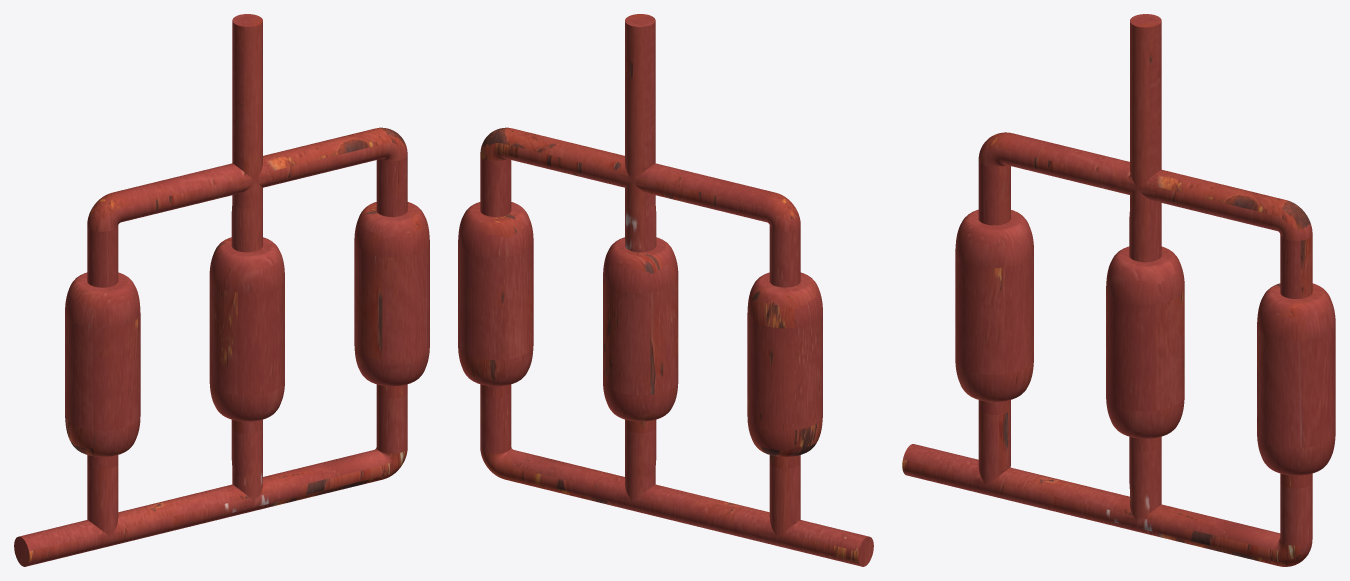
File: exhaustion_cylinder.fbx
3 views of the same model, side by side, from view 1: azimuth 30°, elevation 25°; view 2: azimuth 150°, elevation 25°; view 3: azimuth 330°, elevation 25° (orthographic). The views are drawn at different scales.
Parts seen in each view (by area): view 1: Cylinder.003; view 2: Cylinder.003; view 3: Cylinder.003.
Part boxes in pixels (bbox=[...]): Cylinder.003: bbox=[14, 14, 429, 566]; Cylinder.003: bbox=[458, 14, 873, 566]; Cylinder.003: bbox=[902, 14, 1335, 566].
Bounding box in the file's own units: 191 × 222 × 30.97.
Materials: 1 (1 with a texture image).
